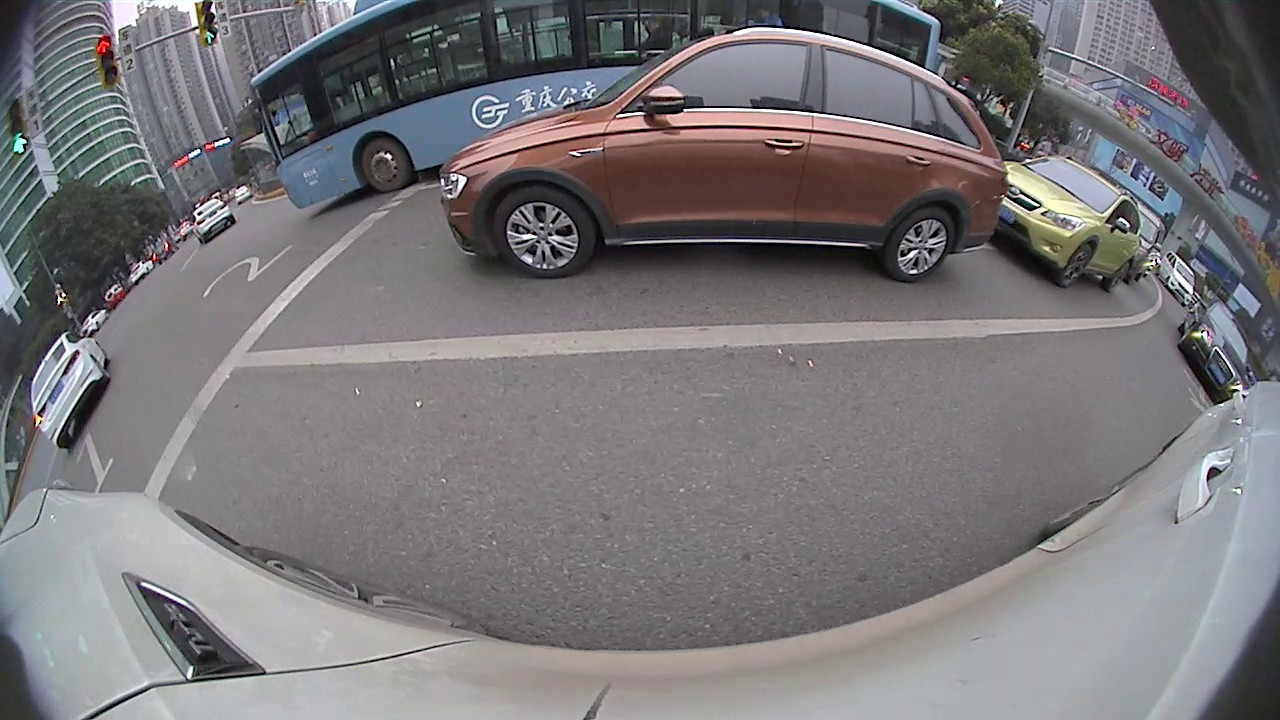bus: (248, 1, 945, 212)
car: (438, 22, 1009, 282), (997, 153, 1144, 296), (28, 328, 114, 451), (1176, 297, 1252, 406), (1125, 192, 1168, 287), (1154, 247, 1198, 307), (190, 196, 237, 247)
front: (488, 180, 601, 283), (353, 134, 415, 196), (1057, 240, 1098, 291)
rear: (879, 203, 960, 287)
